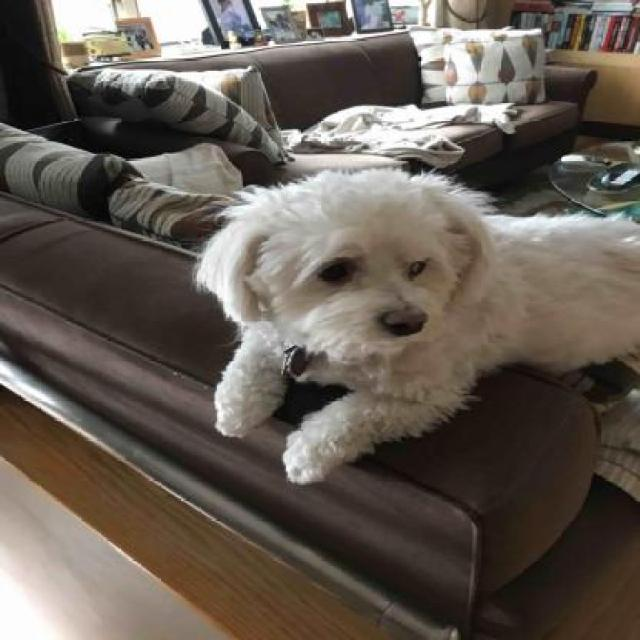Dog: (187, 162, 638, 484)
